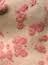plaque psoriasis: (0, 39, 16, 65), (12, 36, 29, 58), (16, 4, 27, 31), (34, 35, 48, 54), (28, 23, 45, 36), (44, 28, 48, 65), (32, 59, 46, 65), (29, 0, 36, 7), (45, 1, 48, 9)
